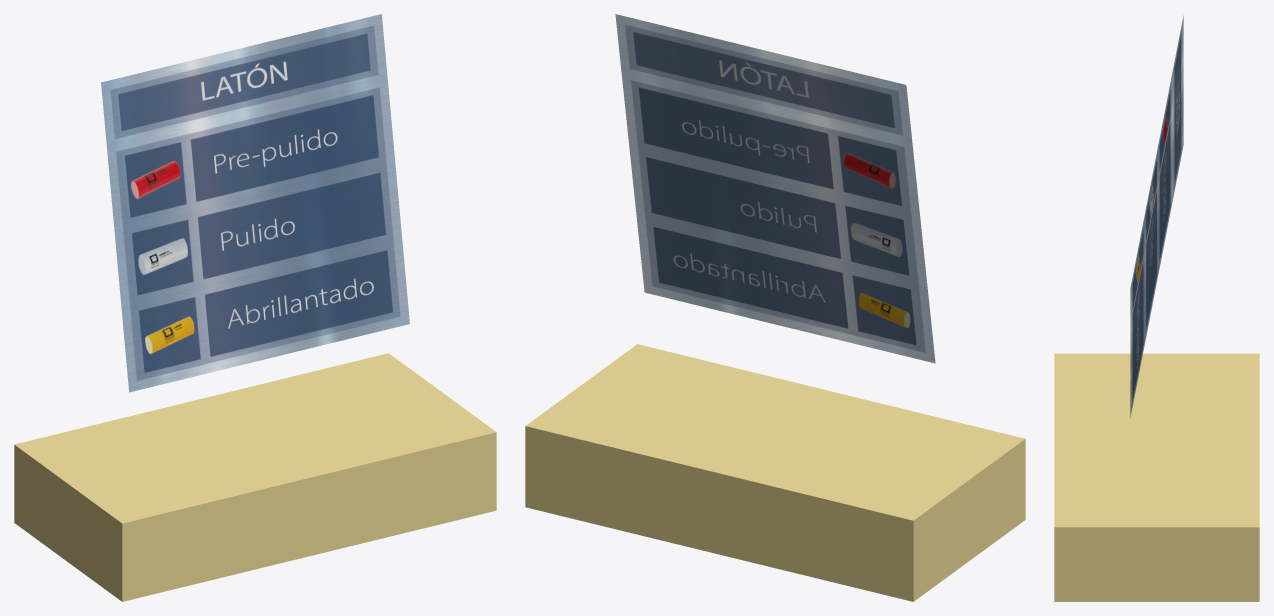
The model's file is laton.glb.
3 views of the same model, side by side, from view 1: azimuth 30°, elevation 25°; view 2: azimuth 150°, elevation 25°; view 3: azimuth 270°, elevation 25° (orthographic). The views are drawn at different scales.
Visible parts, largest first — view 1: PNG_Flotante, Laton_Block; view 2: Laton_Block, PNG_Flotante; view 3: Laton_Block, PNG_Flotante.
Part boxes in pixels (x1,y1,x2,y2): PNG_Flotante: (101,14,409,392); Laton_Block: (14,353,496,601); Laton_Block: (525,344,1025,601); PNG_Flotante: (615,14,935,363); Laton_Block: (1054,353,1259,601); PNG_Flotante: (1130,16,1183,417).
Size of the model in its own units: 0.1 by 0.1169 by 0.05.
2 materials, 1 textured.
